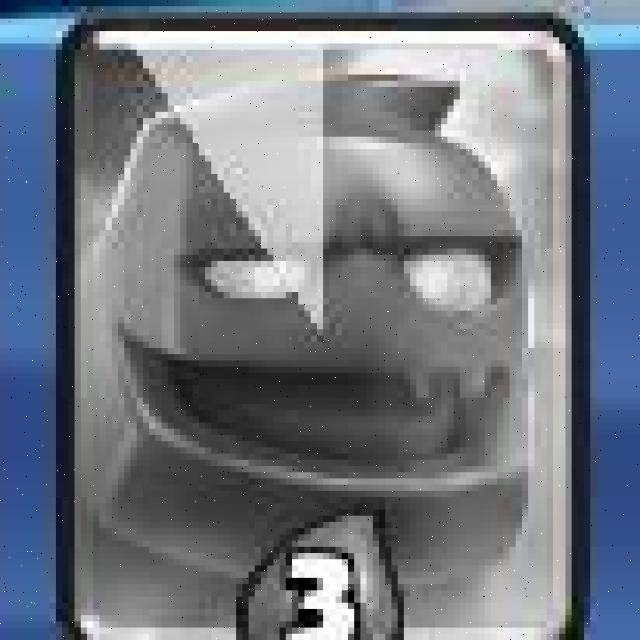Elixir_Golem: (54, 18, 585, 640)
